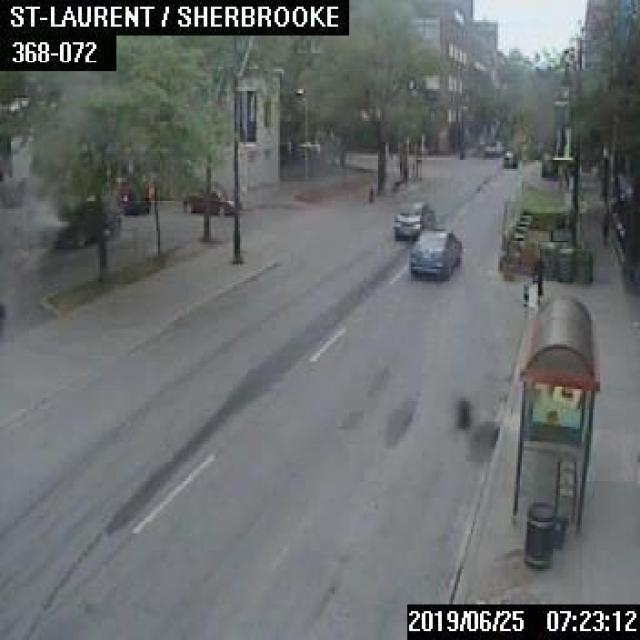vehicle: (46, 196, 120, 248), (409, 228, 460, 276), (391, 201, 434, 236), (182, 187, 233, 214), (116, 186, 149, 215), (484, 138, 504, 156), (500, 149, 516, 167)
